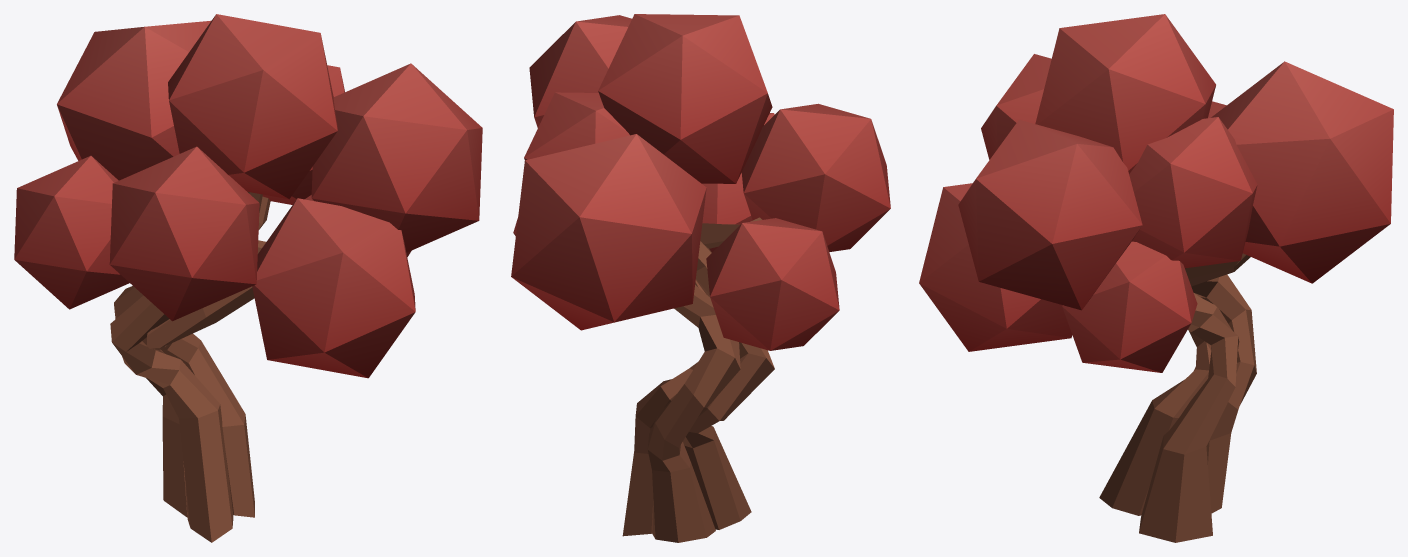
File: Tree_06_gradient_red_vc.fbx
3 renders of one model, left to right at view 1: azimuth 30°, elevation 25°; view 2: azimuth 150°, elevation 25°; view 3: azimuth 270°, elevation 25°, orthographic. The views are drawn at different scales.
Parts seen in each view (by area): view 1: Tree_06_gradient_red_vc; view 2: Tree_06_gradient_red_vc; view 3: Tree_06_gradient_red_vc.
Part boxes in pixels (<box>): Tree_06_gradient_red_vc: <box>14,14,482,542</box>; Tree_06_gradient_red_vc: <box>511,14,890,542</box>; Tree_06_gradient_red_vc: <box>919,14,1393,542</box>.
Bounding box in the file's own units: 488 × 598 × 507.
